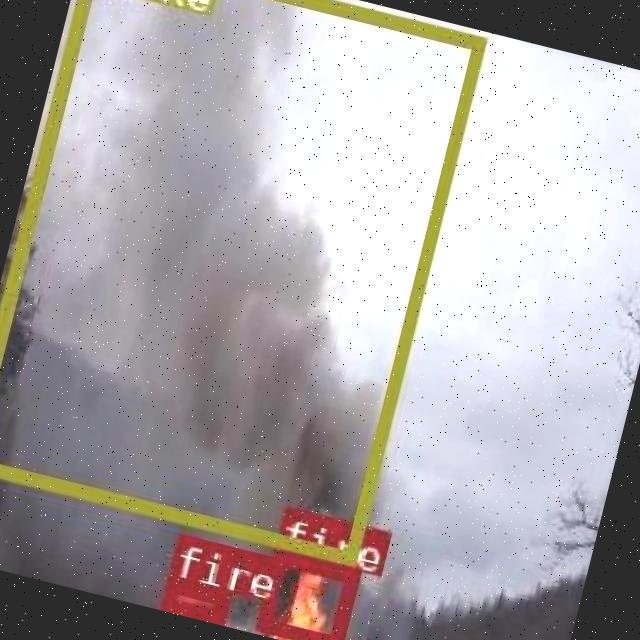fire: (253, 546, 358, 640), (158, 574, 226, 619)
smoke: (0, 0, 484, 563)
